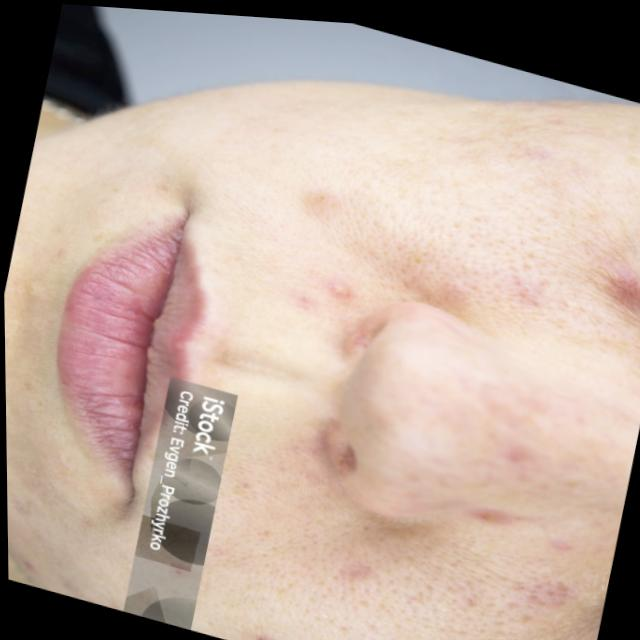papule: (504, 261, 572, 307), (524, 562, 585, 608), (418, 260, 481, 303), (600, 244, 640, 307), (461, 488, 523, 527), (497, 427, 554, 463), (328, 550, 381, 582), (541, 522, 583, 551)
pustule: (317, 270, 364, 302)
